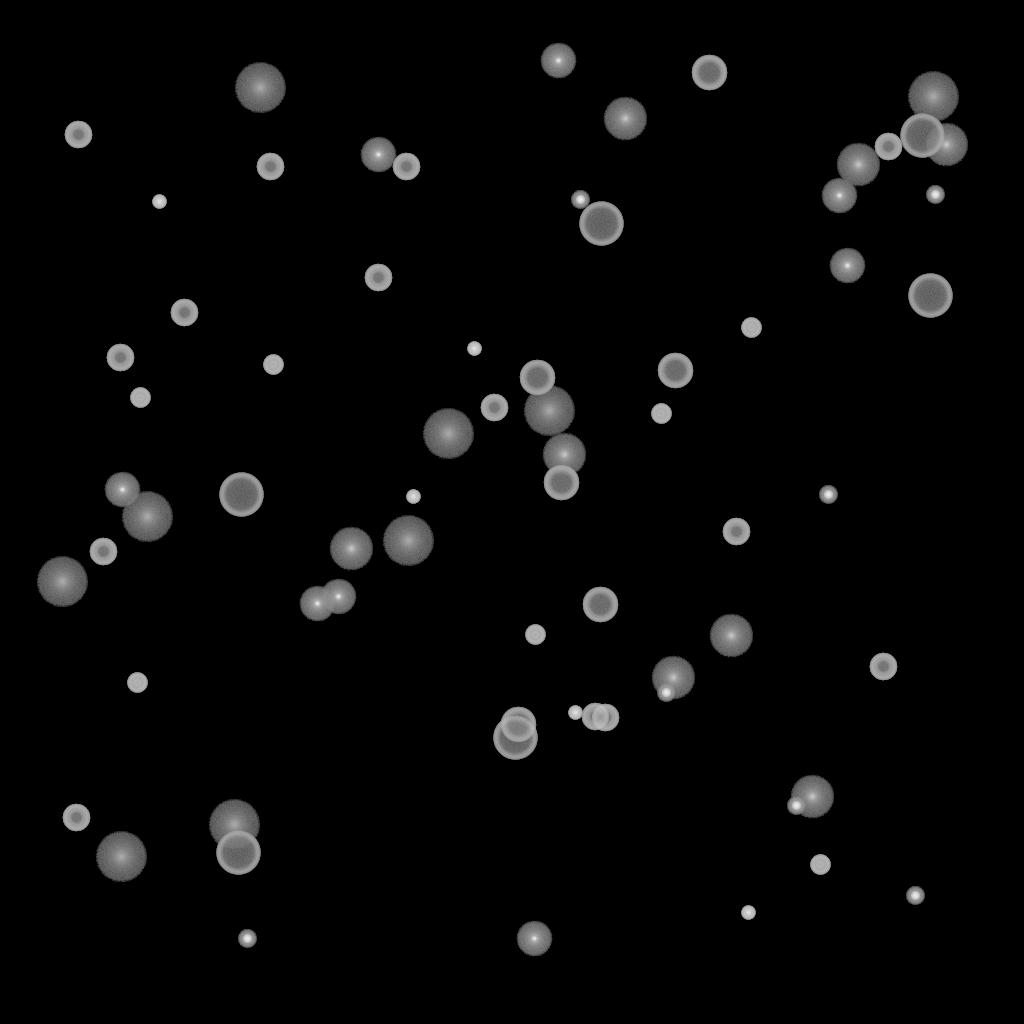depth:-20: (906, 887, 924, 905), (787, 797, 805, 815), (819, 486, 837, 504), (571, 191, 589, 209), (657, 684, 675, 702), (238, 930, 256, 948), (926, 186, 944, 204)
depth:-30: (741, 906, 755, 920), (152, 195, 166, 209), (467, 342, 481, 356), (568, 706, 582, 720), (406, 490, 420, 504)
depth:-40: (810, 855, 830, 875), (263, 355, 283, 375), (741, 318, 761, 338), (130, 388, 150, 408), (525, 625, 545, 645), (651, 404, 671, 424), (127, 673, 147, 693)
depth:-50: (170, 299, 198, 327), (874, 133, 902, 161), (869, 653, 897, 681), (106, 344, 134, 372), (364, 264, 392, 292), (581, 703, 609, 731), (256, 153, 284, 181), (89, 538, 117, 566), (722, 518, 750, 546), (591, 704, 619, 732), (392, 153, 420, 181), (62, 804, 90, 832), (64, 121, 92, 149), (480, 394, 508, 422)
depth:-60: (543, 465, 579, 501), (691, 55, 727, 91), (582, 587, 618, 623), (500, 707, 536, 743), (519, 360, 555, 396), (657, 353, 693, 389)
depth:-70: (579, 202, 623, 246), (216, 831, 260, 875), (493, 716, 537, 760), (908, 274, 952, 318), (219, 473, 263, 517), (900, 114, 944, 158)
depth:0: (821, 178, 857, 214), (829, 248, 865, 284), (104, 472, 140, 508), (360, 137, 396, 173), (540, 43, 576, 79), (516, 921, 552, 957), (320, 579, 356, 615), (299, 586, 335, 622)
depth:10: (790, 775, 834, 819), (651, 656, 695, 700), (836, 143, 880, 187), (709, 614, 753, 658), (924, 123, 968, 167), (603, 97, 647, 141), (329, 527, 373, 571), (542, 433, 586, 477)
depth:20: (95, 832, 147, 882), (36, 557, 88, 607), (208, 800, 260, 850), (523, 386, 575, 436), (121, 492, 173, 542), (234, 63, 286, 113), (907, 72, 959, 122), (382, 516, 434, 566), (422, 409, 474, 459)
